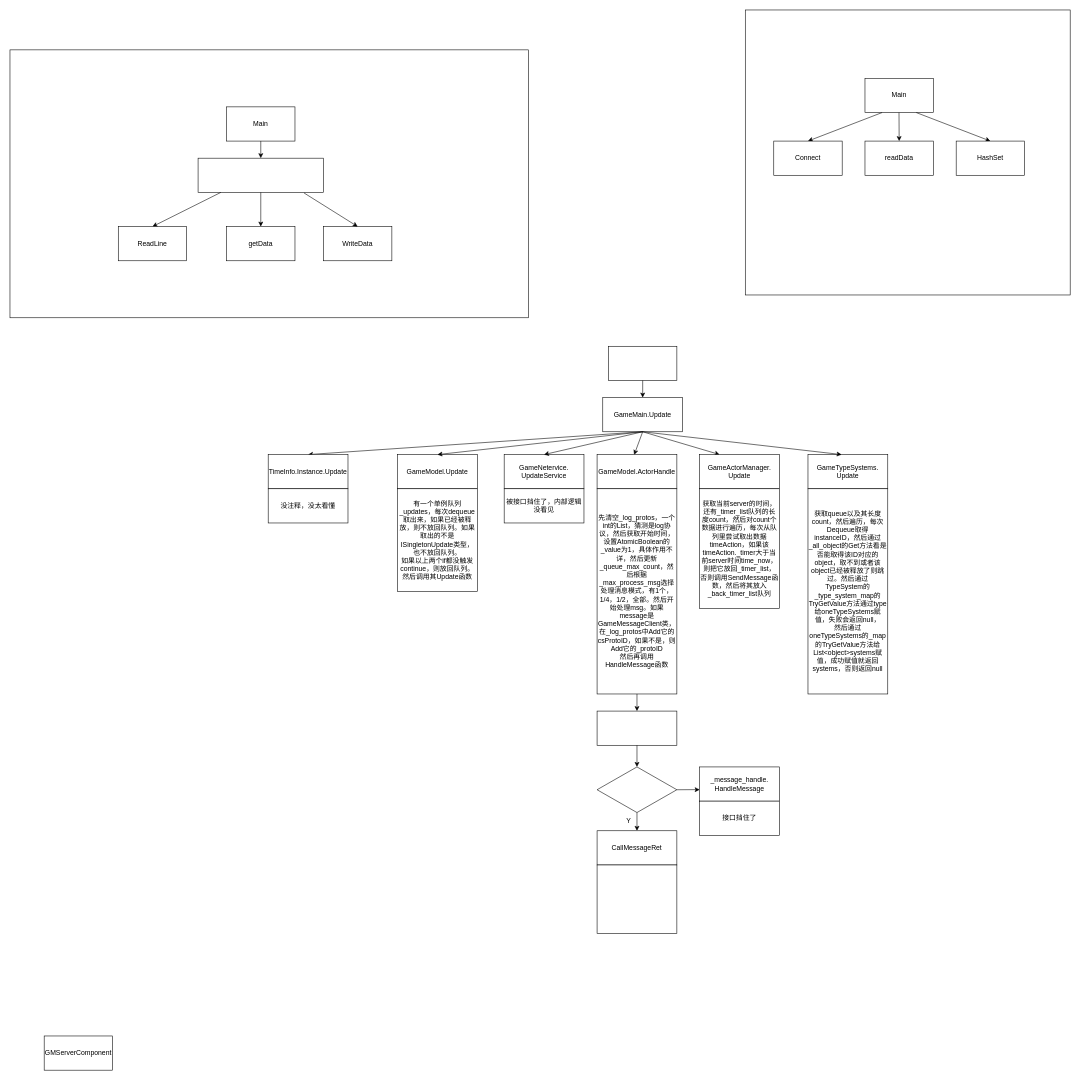
The diagram is 1080 pixels wide and 1080 high, and some of its shapes have lost their labels. Here are the shapes that lost their labels. From the top down, the box of each, then its label:
(198, 158, 323, 192): RunOptionsAndReturnExitCode
(608, 346, 677, 380): GameSever.Main
(597, 711, 677, 745): HandleMessage
(597, 766, 677, 813): msg._rpc_id < 0 ?
(597, 864, 677, 933): 通过_rpc_id获得值sndmsg，然后看现在时间与sndmsg创建时间的差，大于600毫秒提示一个warning，然后给msg设置一个值
